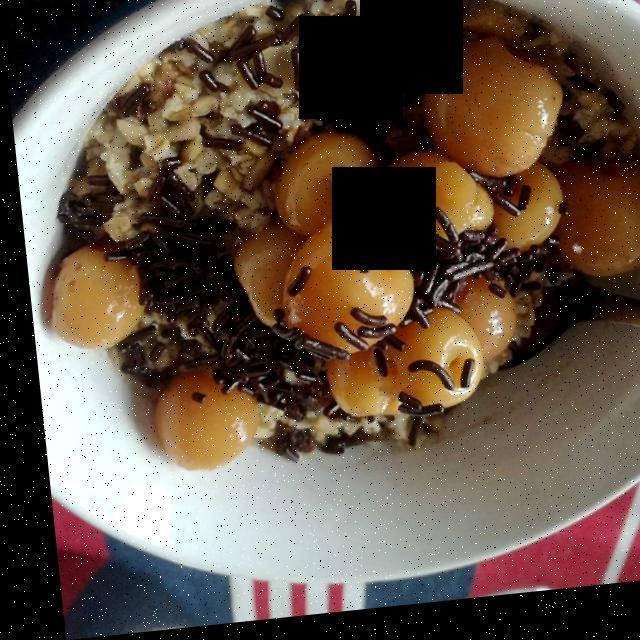chocolate: (142, 38, 556, 421)
muesli: (59, 1, 617, 452)
